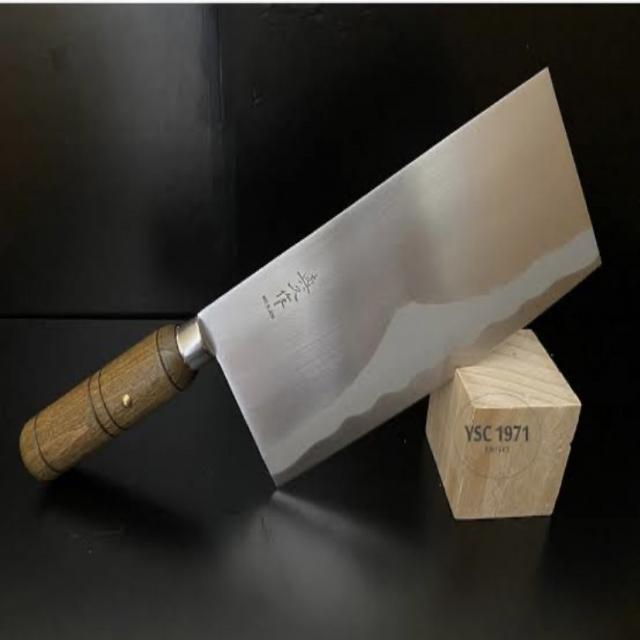Knife: (4, 39, 626, 620)
